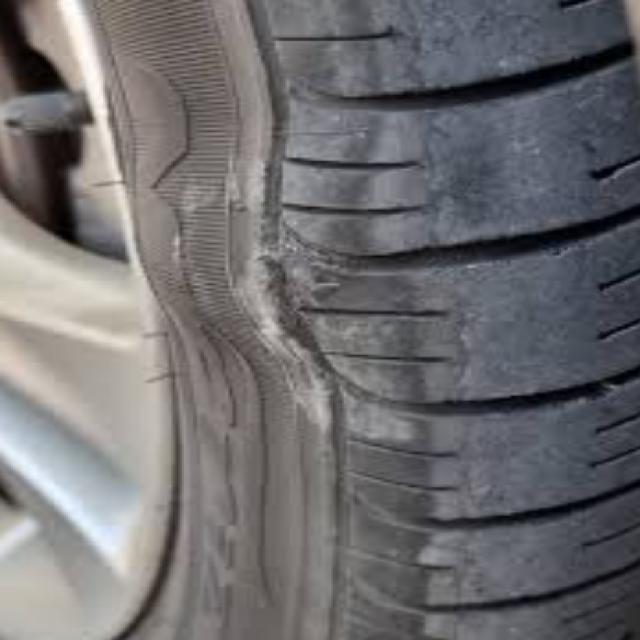Bulge: (125, 151, 460, 396)
